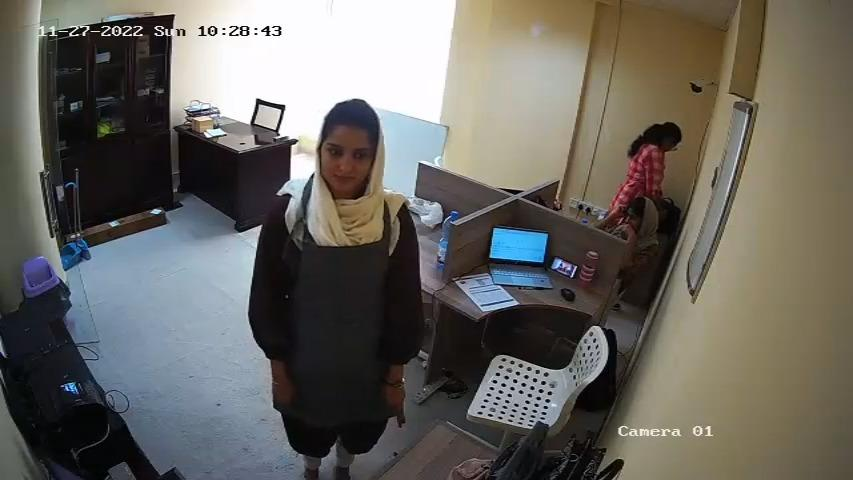apron: (284, 199, 396, 351)
